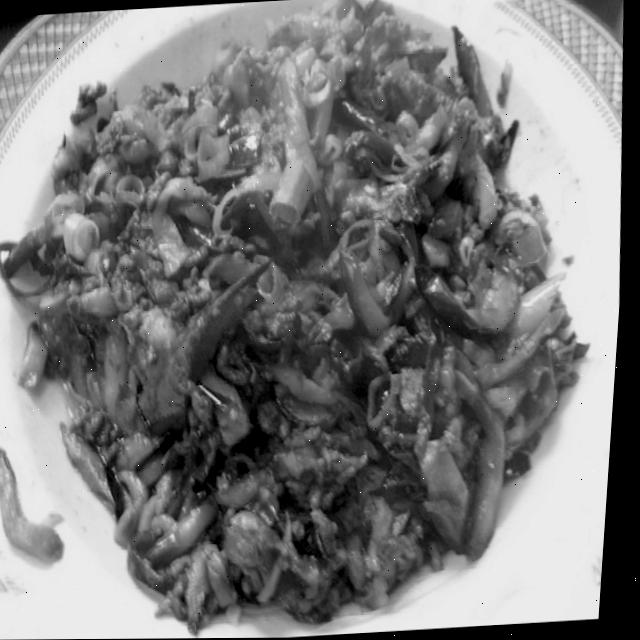鸡蛋料理: (0, 0, 614, 629)
